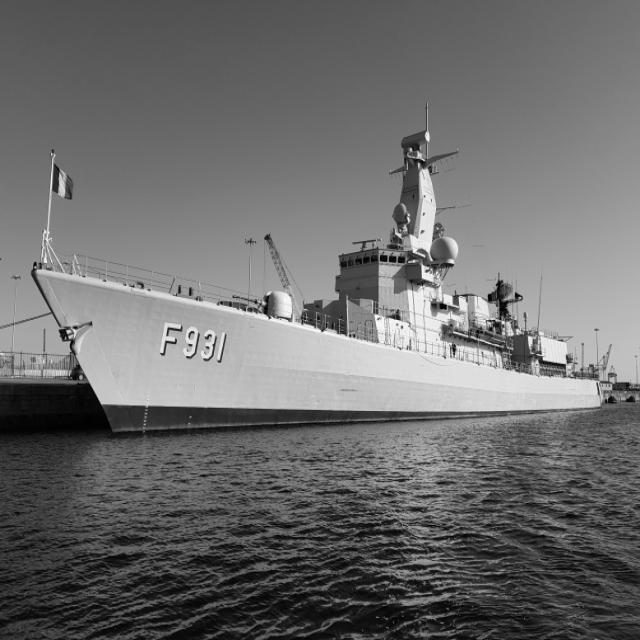Fragata: (28, 127, 611, 444)
